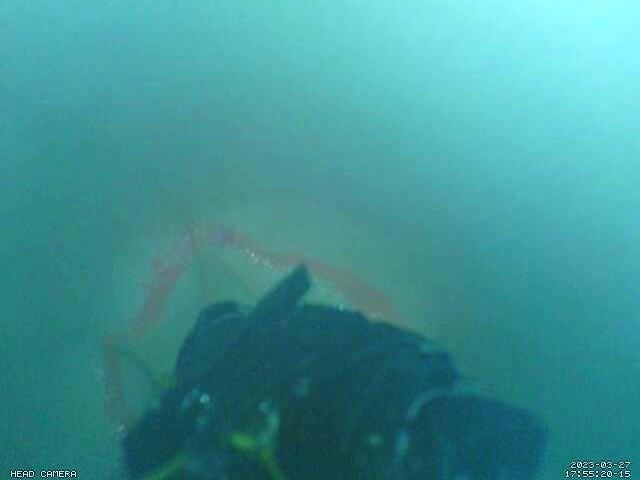head: (99, 224, 403, 435)
